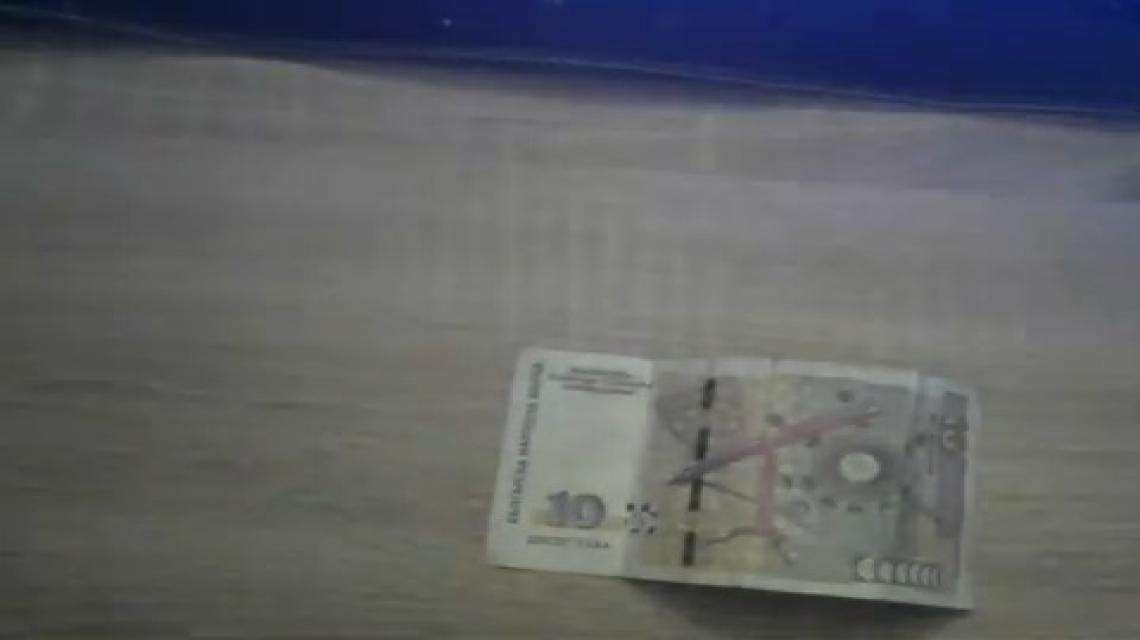10leva: (482, 348, 983, 613)
